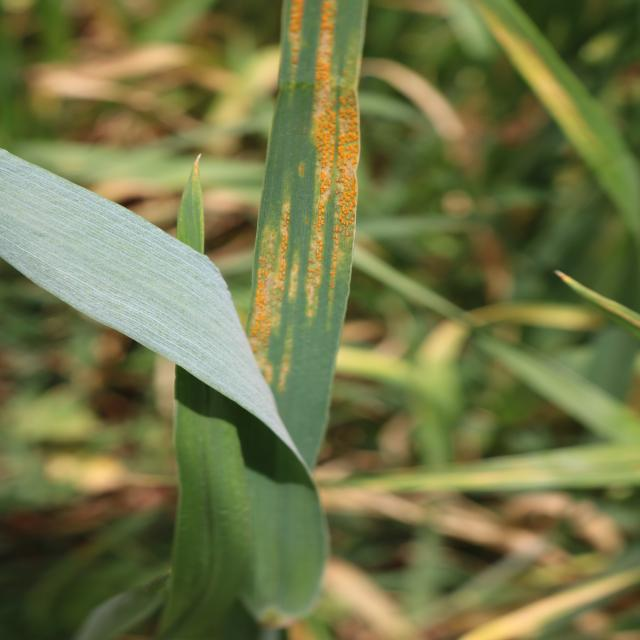Stripe Rust: (249, 197, 293, 367), (311, 93, 358, 233), (316, 1, 336, 88), (289, 0, 303, 70)
